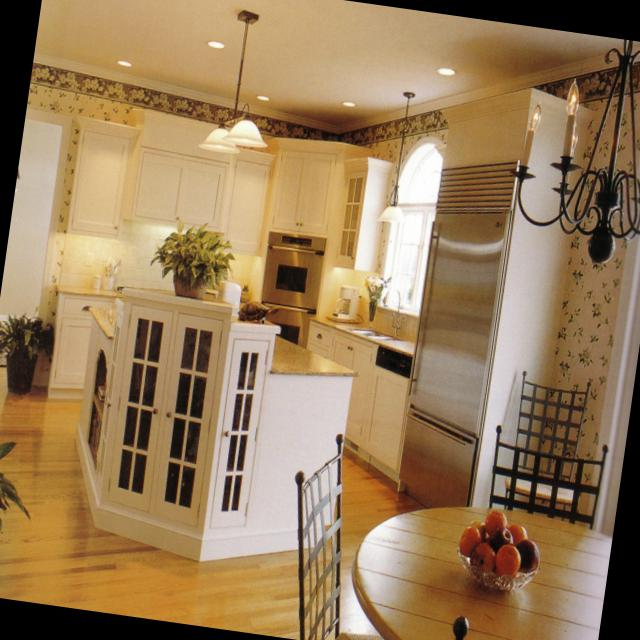2001: (378, 136, 443, 316)
apple: (472, 544, 494, 568)
books crop: (88, 405, 103, 462)
bowl of garlic: (460, 507, 540, 591)
cabinets: (67, 109, 393, 272), (311, 322, 373, 440), (49, 292, 109, 392)
ceiling beam: (35, 0, 640, 132)
chair -occluded-: (295, 432, 383, 640), (504, 367, 591, 522), (489, 424, 607, 529)
chandelier: (508, 40, 640, 262)
coffee maker: (333, 285, 360, 318)
dishwasher: (362, 344, 412, 466)
door bars: (585, 140, 640, 536)
doorway: (0, 107, 73, 369)
faucet handle: (383, 287, 405, 335)
floor -X: (0, 369, 423, 640)
flowers in pot: (364, 275, 391, 326)
island counter: (75, 288, 357, 561)
jar -X: (93, 276, 101, 289)
kitchen worktop: (101, 256, 119, 289)
light fixture: (197, 9, 268, 153), (376, 91, 415, 224), (436, 66, 456, 77), (207, 39, 225, 48), (117, 58, 132, 67), (343, 100, 356, 108), (256, 94, 269, 101)
object: (239, 283, 250, 302)
orange: (497, 543, 520, 573)
ovens: (260, 230, 324, 347)
paper: (218, 281, 241, 309)
plant -x: (149, 220, 237, 299), (0, 445, 28, 516)
potted plant: (0, 312, 51, 392)
refrigerator: (399, 88, 594, 506)
sink basin: (348, 328, 400, 341)
table -X: (355, 506, 610, 640)
turtle: (240, 297, 279, 321)
wall clock: (28, 62, 447, 341), (534, 62, 640, 525)
